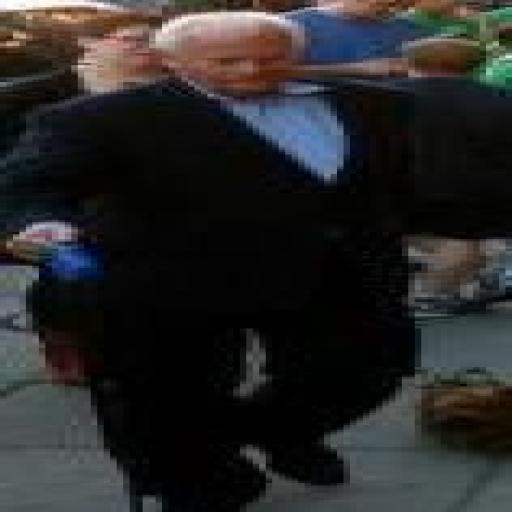person: (0, 13, 414, 511), (402, 37, 511, 316), (39, 10, 162, 103), (286, 0, 427, 79)
